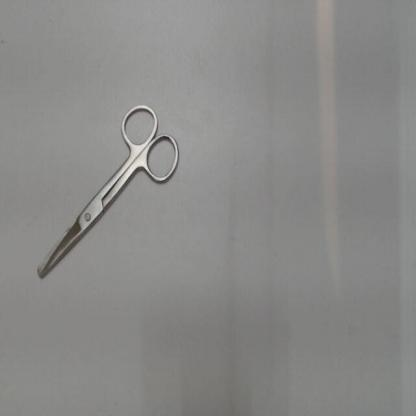Dressing Scissors: (28, 91, 190, 291)
